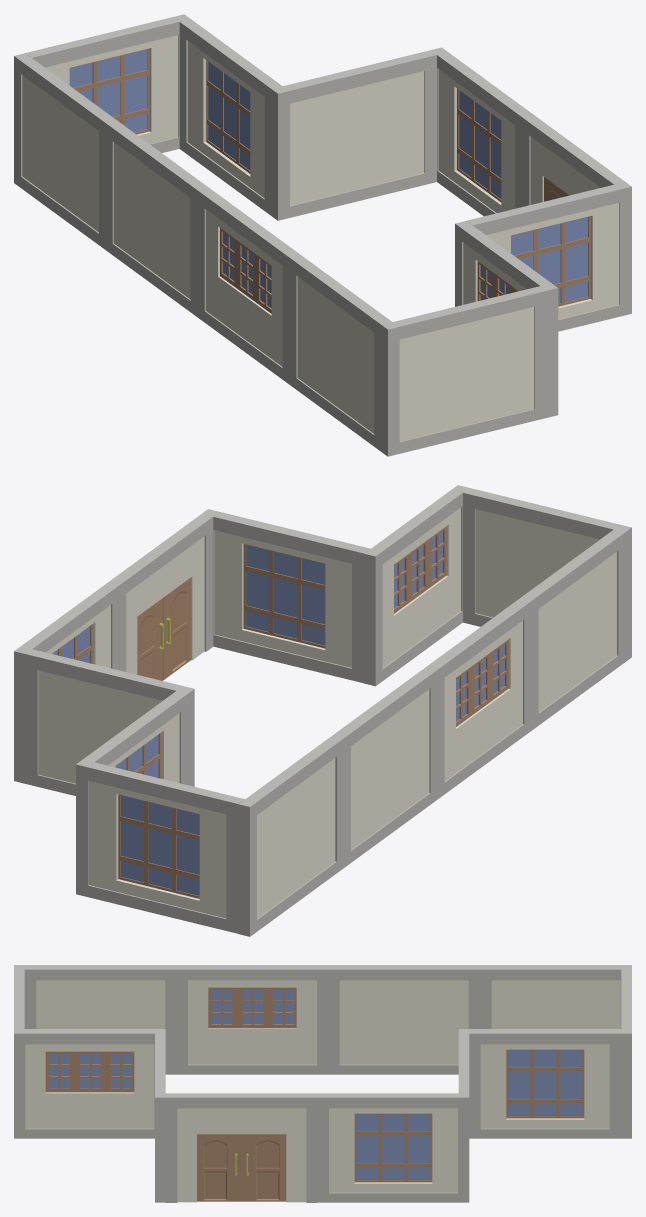
The model's file is House2_COPY.glb.
3 views of the same model, one above another, from view 1: azimuth 30°, elevation 25°; view 2: azimuth 150°, elevation 25°; view 3: azimuth 270°, elevation 25° (orthographic). The views are drawn at different scales.
Parts seen in each view (by area): view 1: House_02.011, House_02.009, House_02.012, House_02.032, House_02.020, House_02.031, House_02.026, House_02.021, House_02.019, House_02.034, House_02.018, House_02.029 (+8 smaller); view 2: House_02.011, House_02.009, House_02.026, House_02.020, House_02.031, House_02.033, House_02.032, House_02.018, House_02.012, House_02.019, House_02.034, House_02.013 (+10 smaller); view 3: House_02.011, House_02.009, House_02.026, House_02.013, House_02.021, House_02.020, House_02.031, House_02.008, House_02.029, House_02.027, House_02.030, House_02.028 (+10 smaller).
Part boxes in pixels (bbox=[...]): House_02.011: bbox=[14, 53, 558, 456]; House_02.009: bbox=[25, 14, 631, 331]; House_02.012: bbox=[399, 307, 534, 441]; House_02.032: bbox=[290, 71, 424, 205]; House_02.020: bbox=[297, 277, 374, 433]; House_02.031: bbox=[22, 75, 98, 232]; House_02.026: bbox=[114, 142, 190, 299]; House_02.021: bbox=[206, 209, 282, 366]; House_02.019: bbox=[511, 216, 590, 306]; House_02.034: bbox=[69, 48, 149, 134]; House_02.018: bbox=[486, 203, 619, 319]; House_02.029: bbox=[188, 41, 264, 197]; House_02.011: bbox=[238, 485, 631, 936]; House_02.009: bbox=[14, 509, 370, 933]; House_02.026: bbox=[351, 689, 429, 849]; House_02.020: bbox=[538, 552, 616, 712]; House_02.031: bbox=[257, 758, 335, 918]; House_02.033: bbox=[89, 781, 226, 918]; House_02.032: bbox=[38, 670, 162, 783]; House_02.018: bbox=[214, 530, 351, 667]; House_02.012: bbox=[475, 509, 599, 617]; House_02.019: bbox=[243, 544, 325, 648]; House_02.034: bbox=[118, 794, 199, 898]; House_02.013: bbox=[382, 507, 460, 667]; House_02.011: bbox=[14, 965, 631, 1138]; House_02.009: bbox=[155, 969, 631, 1202]; House_02.026: bbox=[339, 980, 468, 1064]; House_02.013: bbox=[25, 1044, 154, 1128]; House_02.021: bbox=[188, 980, 316, 1064]; House_02.020: bbox=[36, 980, 165, 1028]; House_02.031: bbox=[491, 980, 620, 1028]; House_02.008: bbox=[177, 1108, 306, 1202]; House_02.029: bbox=[480, 1044, 609, 1128]; House_02.027: bbox=[329, 1108, 457, 1192]; House_02.030: bbox=[506, 1049, 584, 1118]; House_02.028: bbox=[354, 1113, 432, 1182].
Size of the model in its own units: 9.97 by 3.68 by 19.58.
